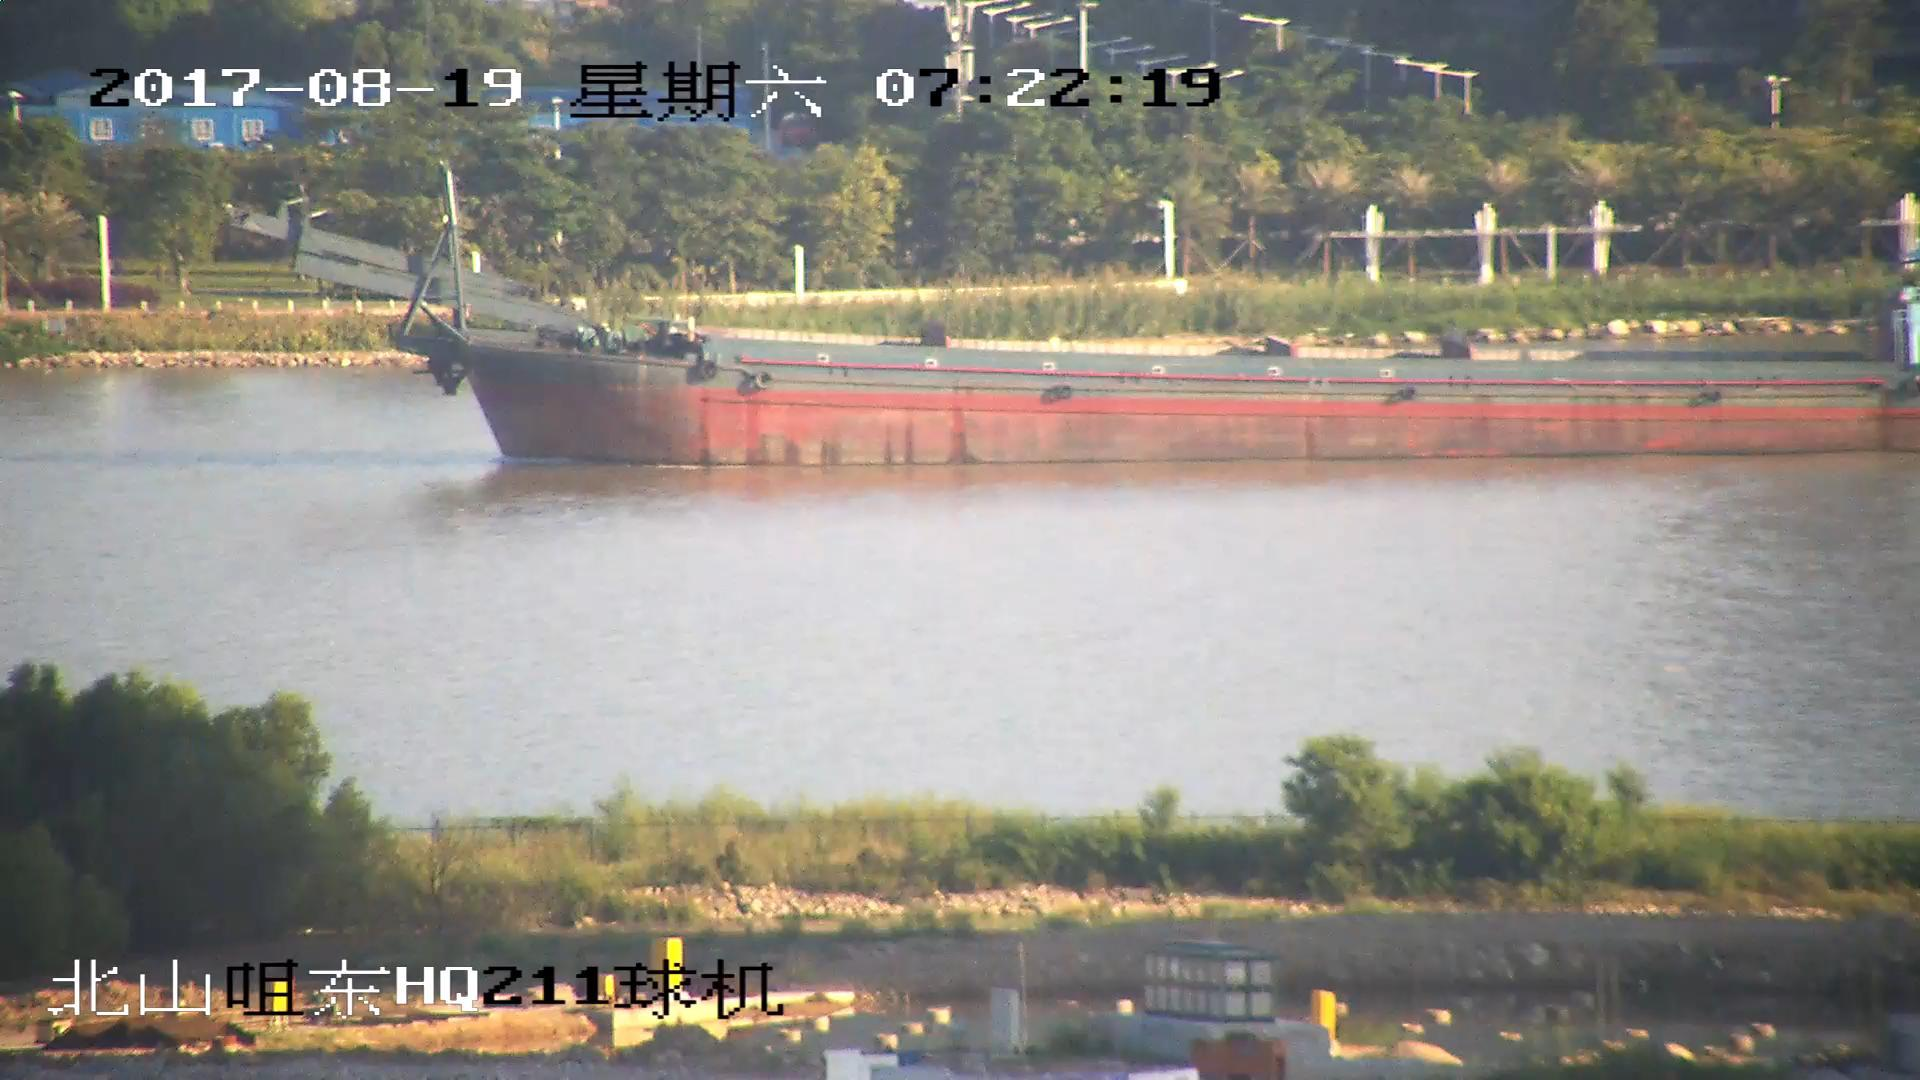Ship: (224, 165, 1920, 467)
